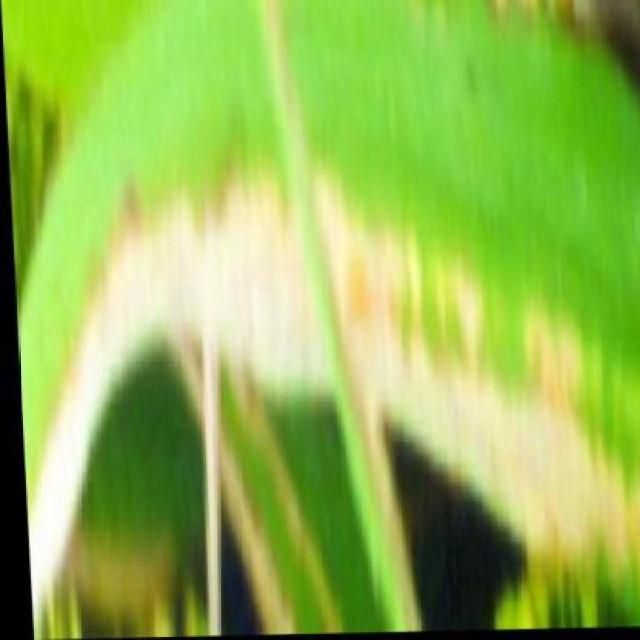Brown_Spot: (11, 142, 402, 620), (336, 228, 633, 549)
